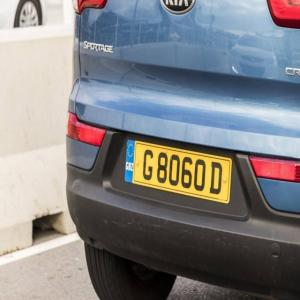Plate: (125, 139, 232, 204)
